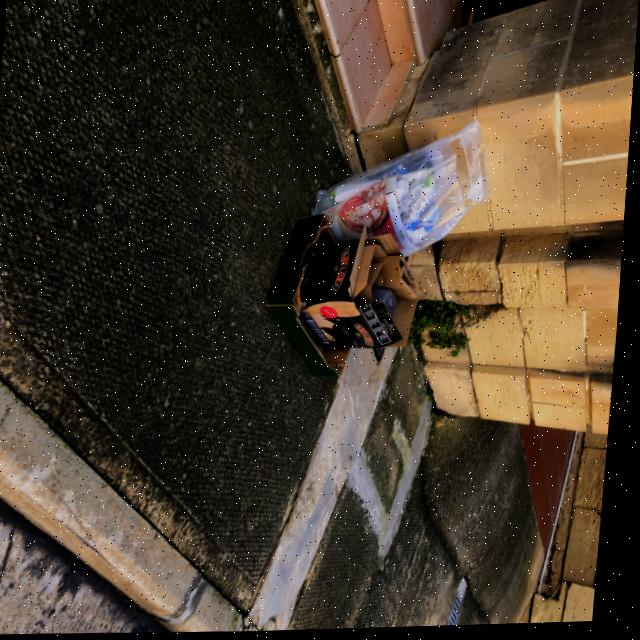Other: (313, 117, 499, 264), (295, 226, 427, 355), (267, 213, 366, 383)
